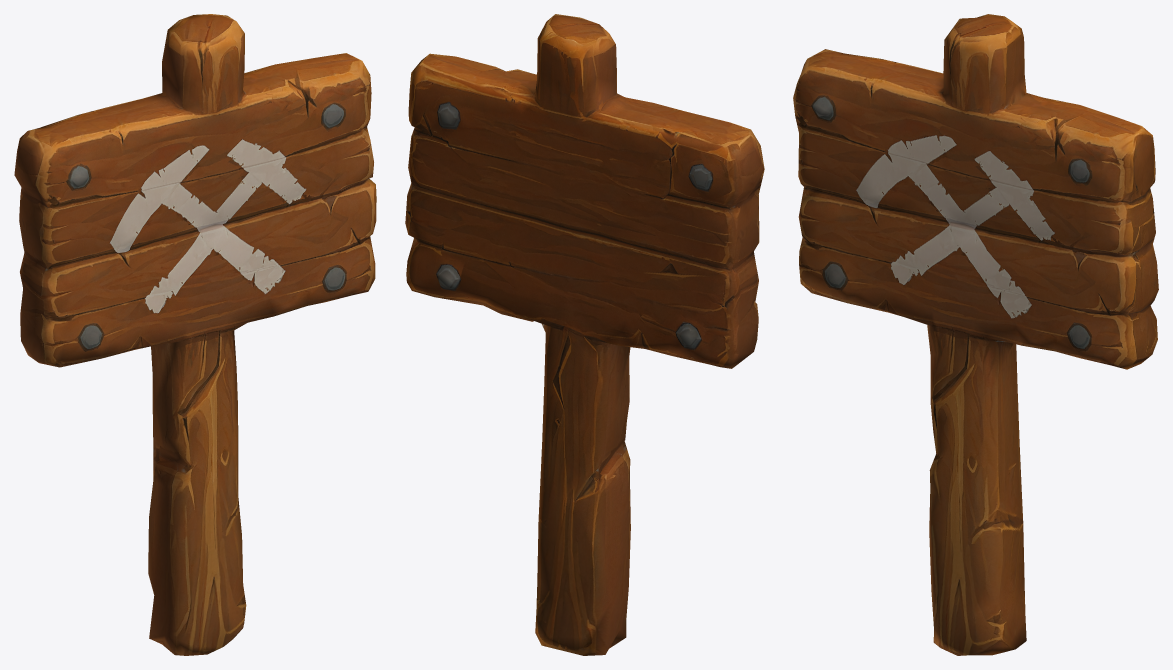
File: Signboard.glb
The picture shows the model from 3 angles, left to right: view 1: azimuth 30°, elevation 25°; view 2: azimuth 150°, elevation 25°; view 3: azimuth 330°, elevation 25°; orthographic projection.
Visible parts, largest first — view 1: texture_mapping; view 2: texture_mapping; view 3: texture_mapping.
Boxes of the visible parts, bbox=[...] form: texture_mapping: bbox=[14, 14, 376, 655]; texture_mapping: bbox=[405, 14, 764, 655]; texture_mapping: bbox=[793, 14, 1158, 655].
Size of the model in its own units: 0.5787 by 1 by 0.1181.
1 material, 1 textured.
